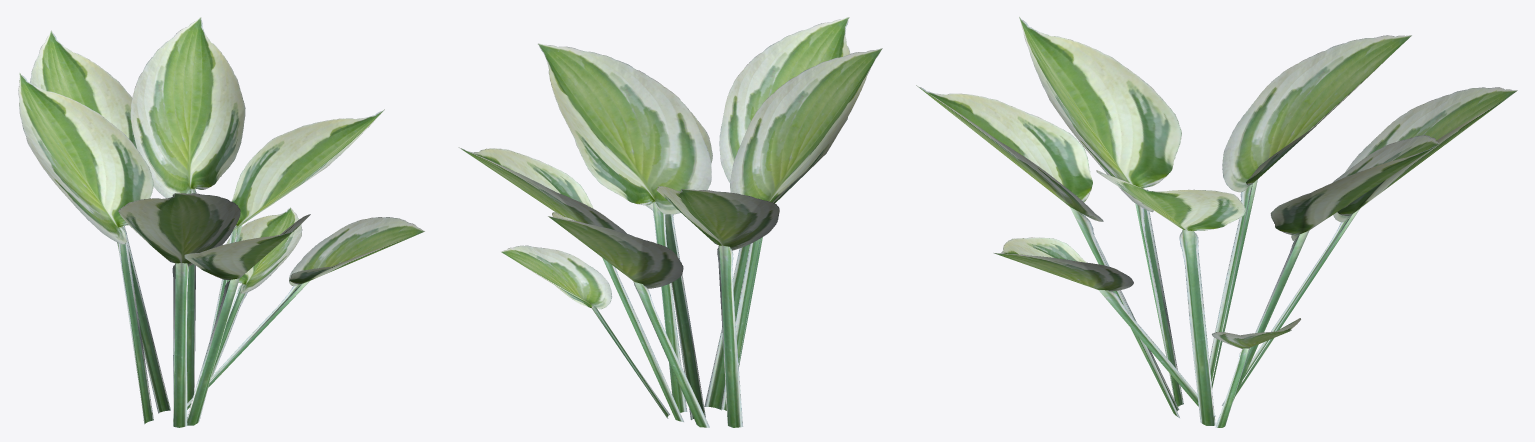
The model's file is plant_small_wg_02L.fbx.
The picture shows the model from 3 angles, left to right: view 1: azimuth 30°, elevation 25°; view 2: azimuth 150°, elevation 25°; view 3: azimuth 270°, elevation 25°; orthographic projection. The views are drawn at different scales.
Parts seen in each view (by area): view 1: plant_small_wg_02L; view 2: plant_small_wg_02L; view 3: plant_small_wg_02L.
Boxes of the visible parts, bbox=[...] form: plant_small_wg_02L: bbox=[18, 17, 424, 427]; plant_small_wg_02L: bbox=[458, 17, 882, 427]; plant_small_wg_02L: bbox=[916, 17, 1517, 427].
Bounding box in the file's own units: 50.28 × 49.87 × 78.27.
